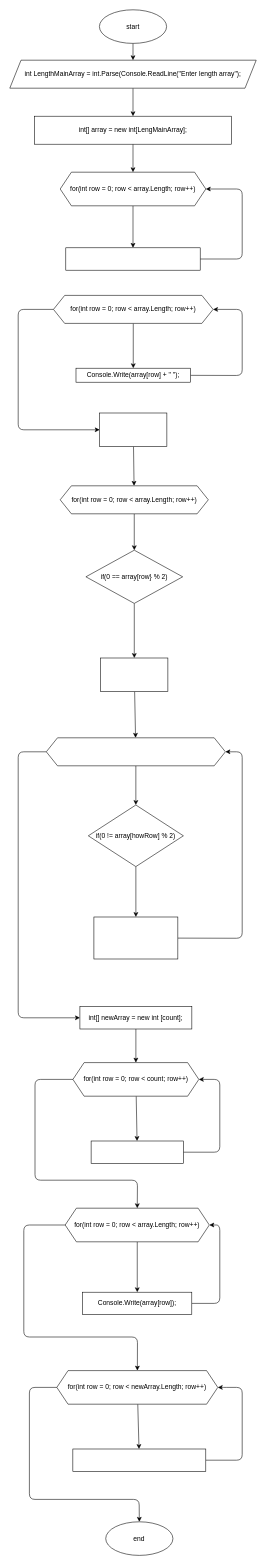
This 266x1565 diagram has some shape labels left out. Here are the shapes that lost their labels. From the top down, the centre of each, then its label:
[132,258]: array[row] = new Random().Next(-10, 10);
[133,429]: int temp, count = 0;
[134,674]: temp = array[row];
[135,751]: for(int howRow = 0; howRow < array.Length; howRow++)
[135,937]: array[howRow] = temp; count++; break;
[137,1151]: newArray[row] = array[row];
[139,1459]: Console.Write(newArray[row]);
